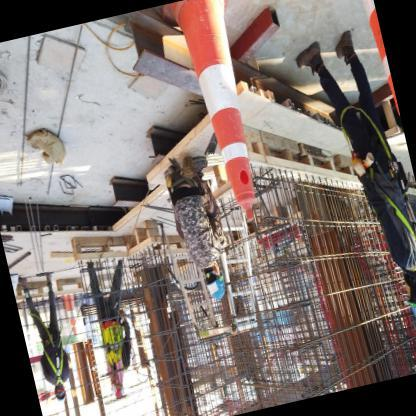Helmet: (200, 268, 234, 305), (401, 287, 415, 330)
safety-shoe: (289, 36, 331, 77), (327, 21, 360, 68)
